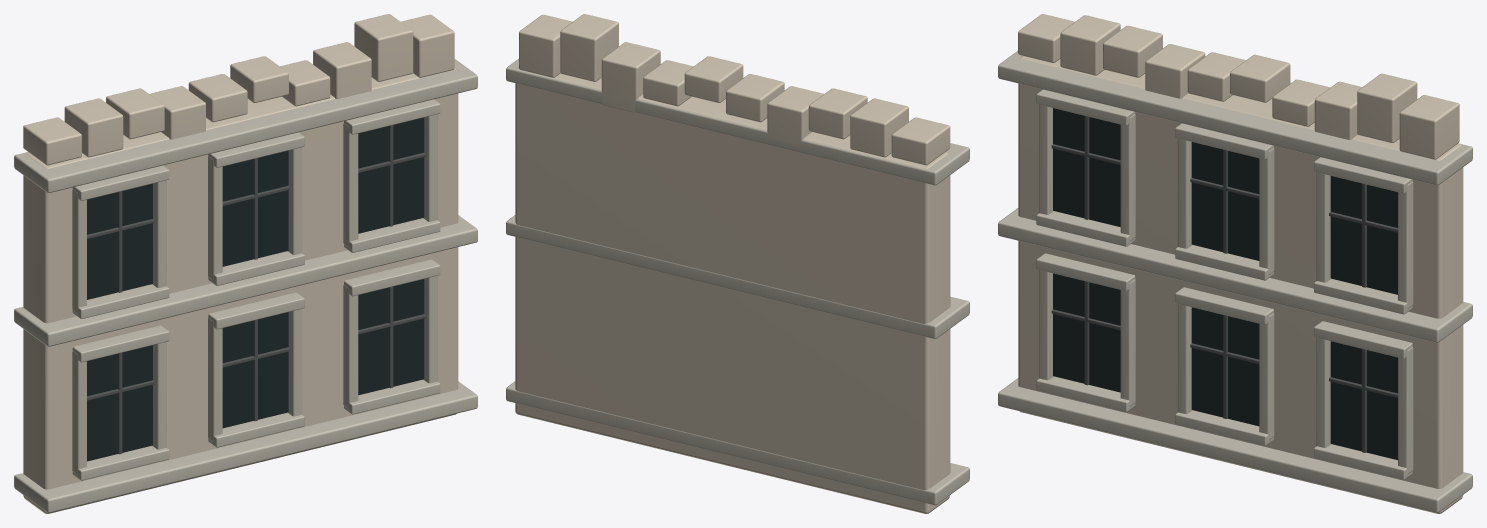
The model's file is Facade.fbx.
3 views of the same model, side by side, from view 1: azimuth 30°, elevation 25°; view 2: azimuth 150°, elevation 25°; view 3: azimuth 330°, elevation 25° (orthographic). The views are drawn at different scales.
Parts seen in each view (by area): view 1: Facade; view 2: Facade; view 3: Facade.
Boxes of the visible parts, x1,y1,x2,y2 form: Facade: [14, 14, 477, 513]; Facade: [506, 14, 969, 513]; Facade: [998, 14, 1472, 513].
Size of the model in its own units: 5.72 by 5.03 by 0.8.
